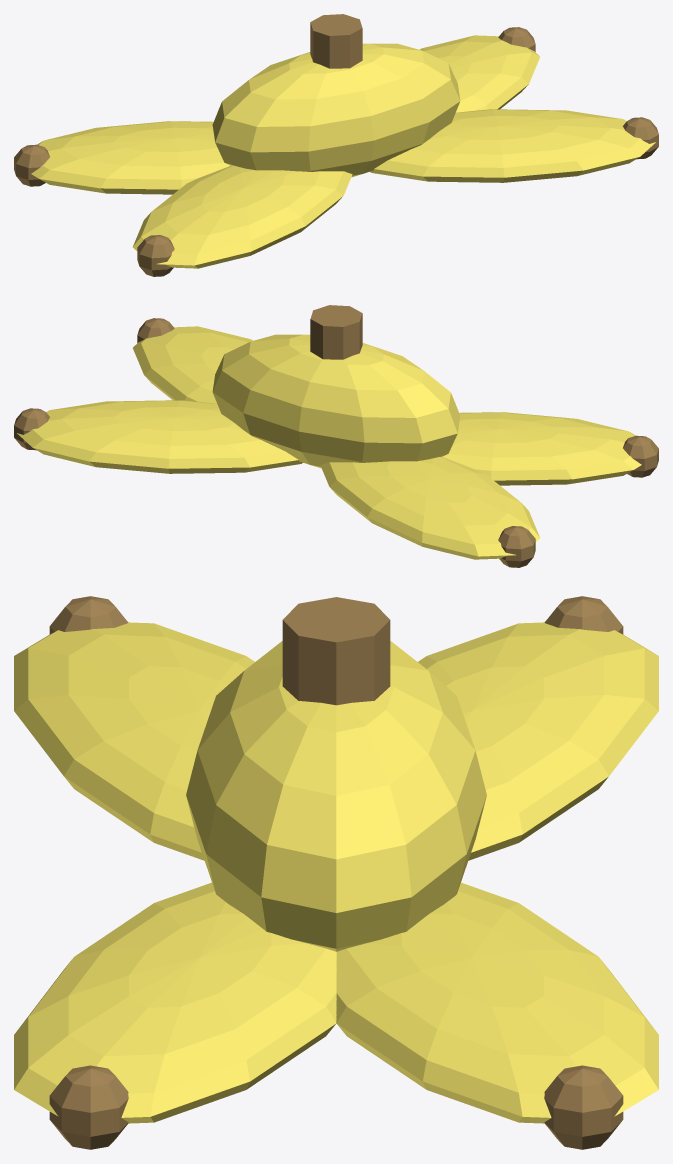
The model's file is SM_Trap_Banana.fbx.
The picture shows the model from 3 angles, top to bottom: view 1: azimuth 30°, elevation 25°; view 2: azimuth 150°, elevation 25°; view 3: azimuth 270°, elevation 25°; orthographic projection. The views are drawn at different scales.
Visible parts, largest first — view 1: SM_Trap_Banana; view 2: SM_Trap_Banana; view 3: SM_Trap_Banana.
Boxes of the visible parts, <box> form: SM_Trap_Banana: <box>14,14,658,276</box>; SM_Trap_Banana: <box>14,305,658,567</box>; SM_Trap_Banana: <box>14,596,658,1149</box>.
Size of the model in its own units: 0.5546 by 0.15 by 0.3001.
